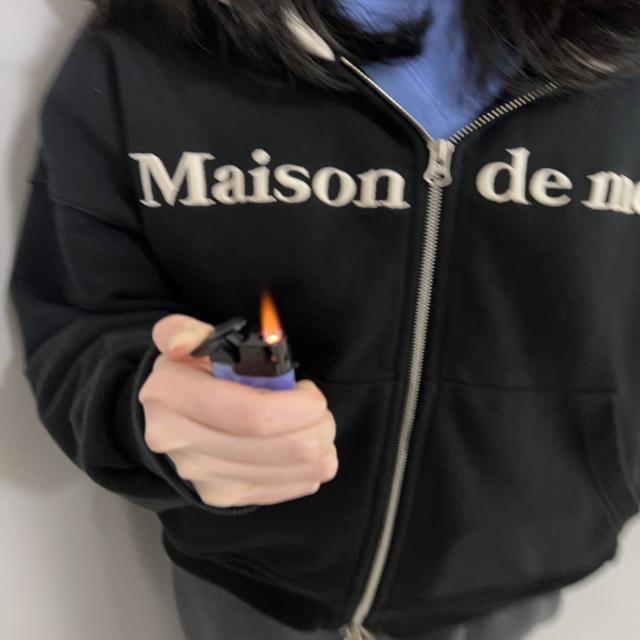fire: (257, 294, 285, 346)
